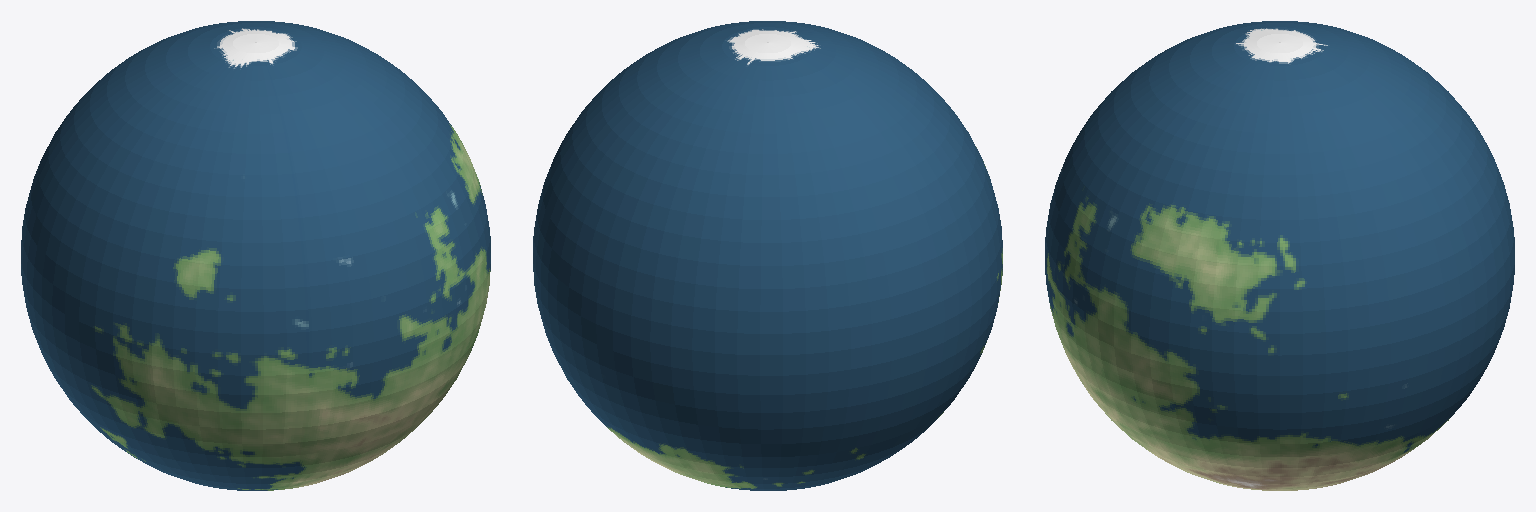
3 renders of one model, left to right at view 1: azimuth 30°, elevation 25°; view 2: azimuth 150°, elevation 25°; view 3: azimuth 270°, elevation 25°, orthographic.
Visible parts, largest first — view 1: Sphere_Sphere.001; view 2: Sphere_Sphere.001; view 3: Sphere_Sphere.001.
Boxes of the visible parts, x1=… form: Sphere_Sphere.001: x1=21, y1=21, x2=490, y2=490; Sphere_Sphere.001: x1=533, y1=21, x2=1002, y2=490; Sphere_Sphere.001: x1=1045, y1=21, x2=1514, y2=490.
Size of the model in its own units: 2 by 2 by 2.
Materials: 1 (1 with a texture image).